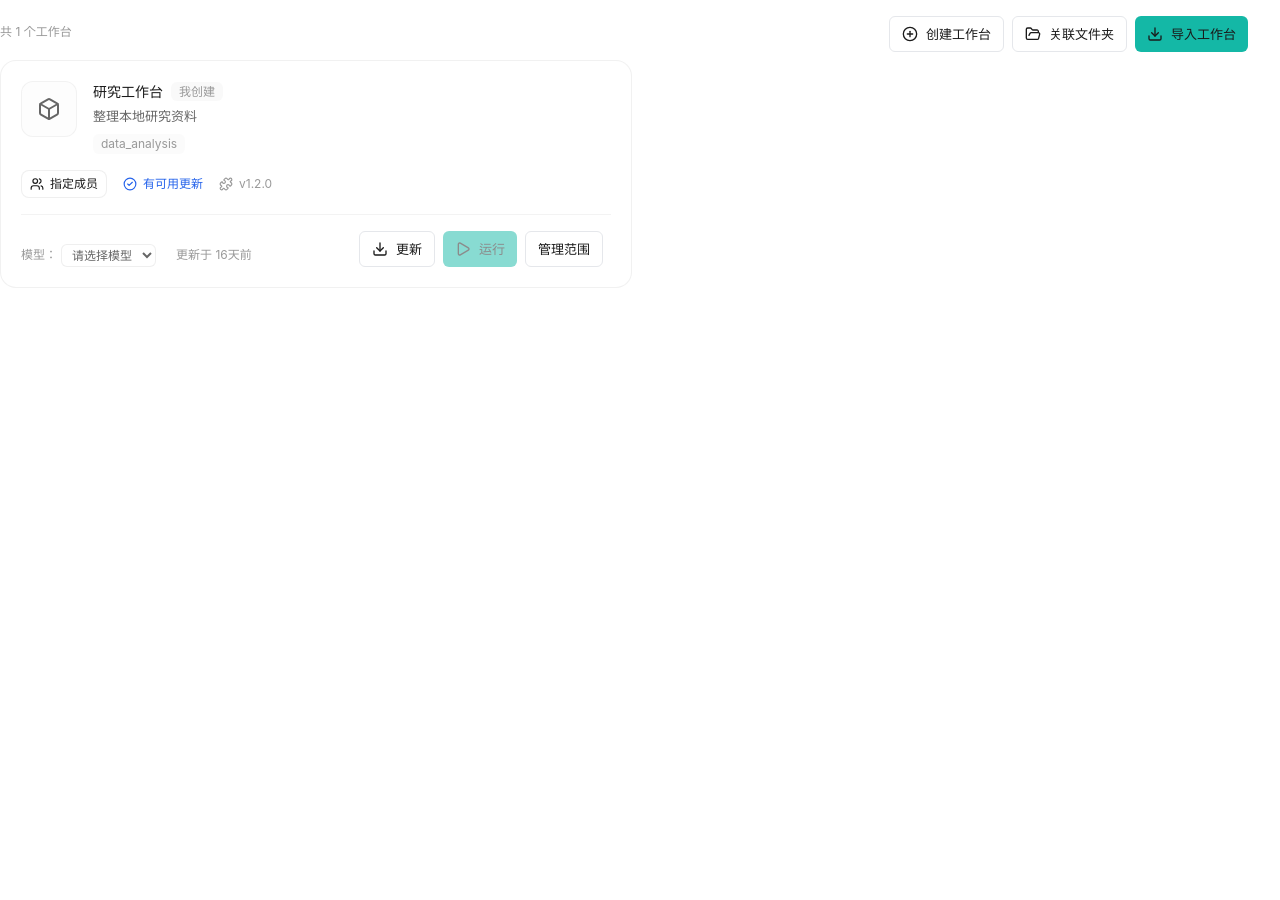
Test: SmartAppsMarketplacePage › switches an owned app to everyone without sharing targets
The width and height of the screenshot is (1280, 900).
Click the button "指定成员" at (64, 184), box [21,170,107,198]
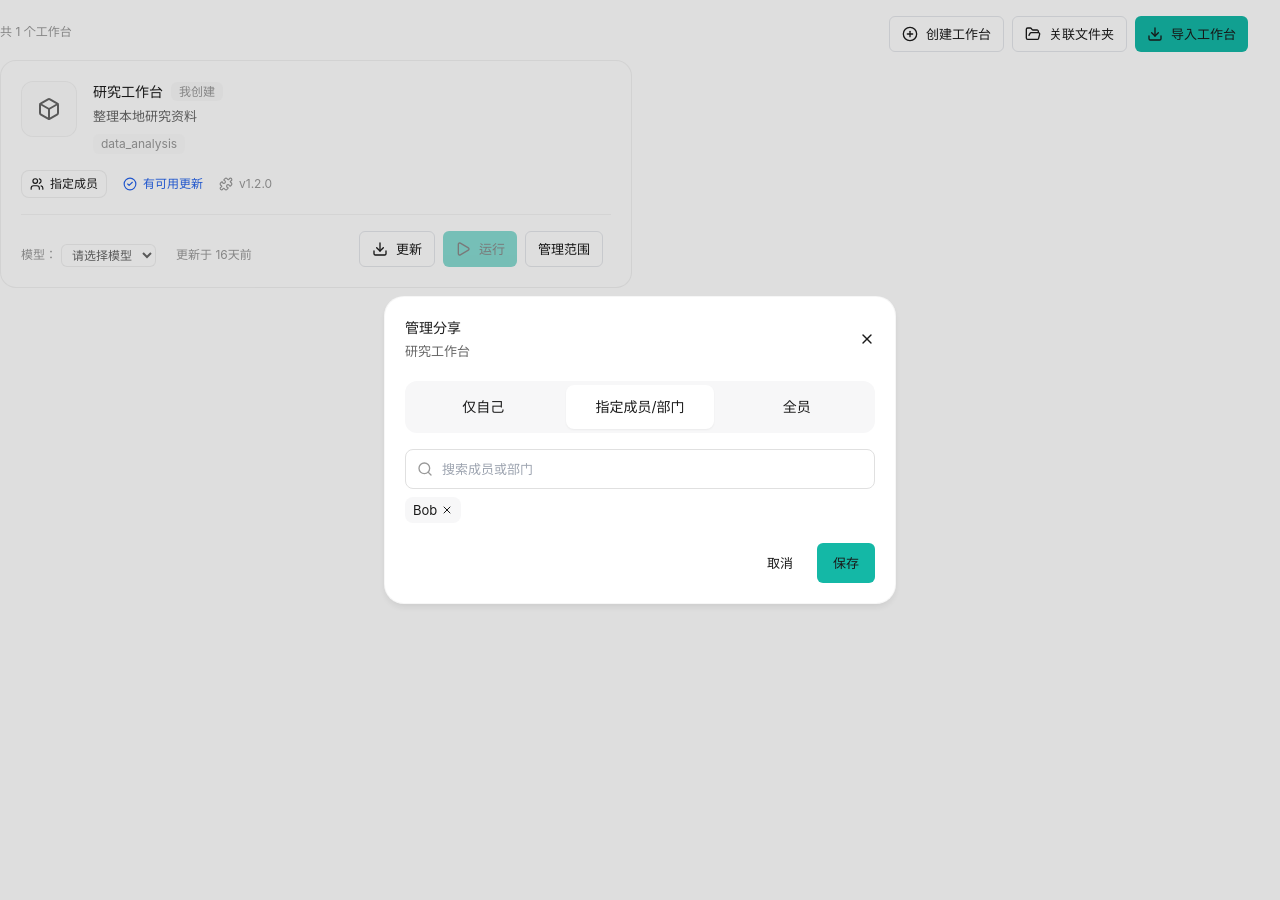
expect the dialog with test id "smart-app-share-dialog" is shown: met, box [384,296,896,604]
Click the button with test id "smart-app-share-scope-public" at (797, 406), box [722,384,871,428]
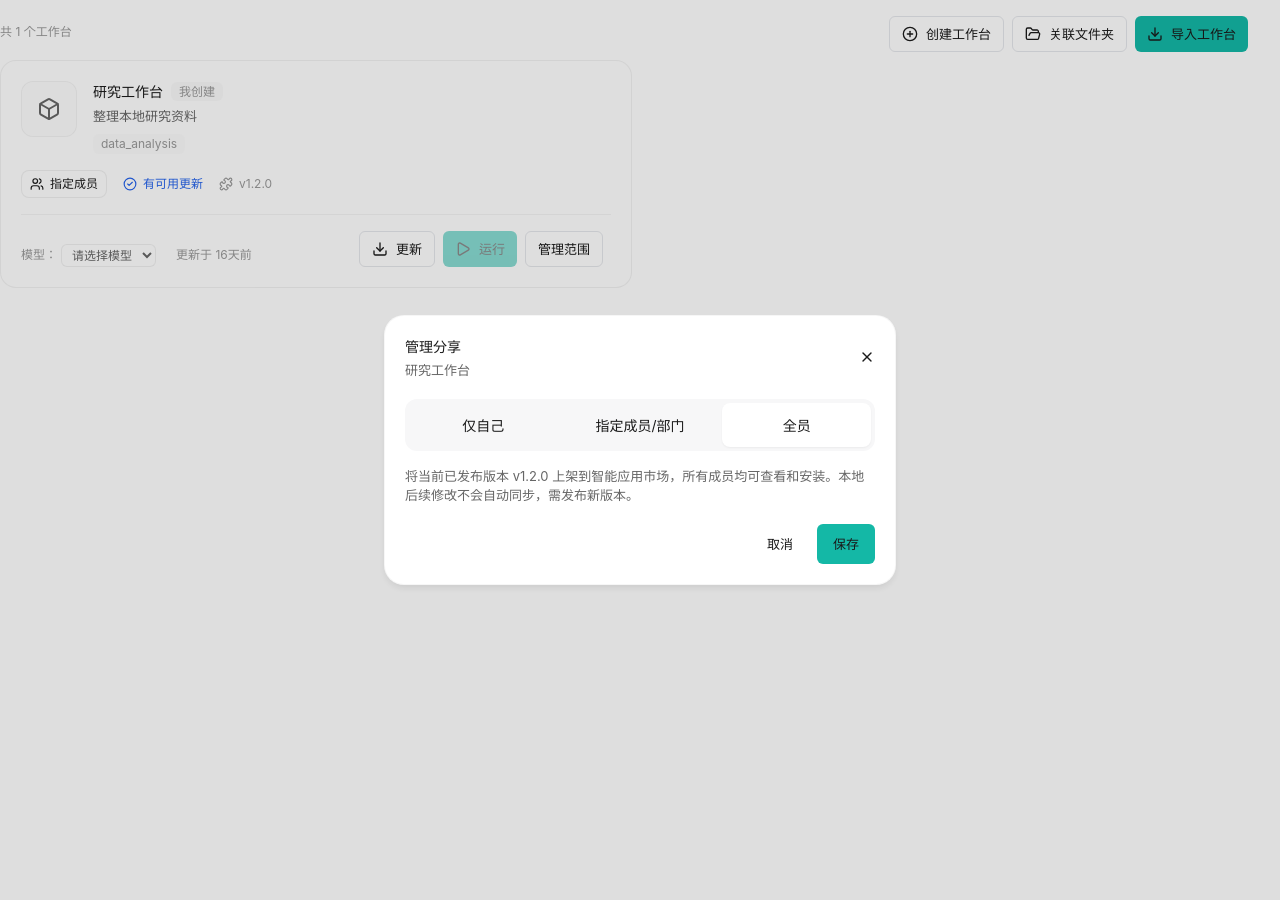
expect the field with test id "smart-app-target-search" is gone: met
expect the text "将当前已发布版本 v1.2.0 上架到智能应用市场，所有成员均可查看和安装。本地后续修改不会自动同步，需发布新版本。" is shown: met, box [405,467,875,504]
Click the button with test id "smart-app-share-save" at (846, 544), box [817,524,875,564]
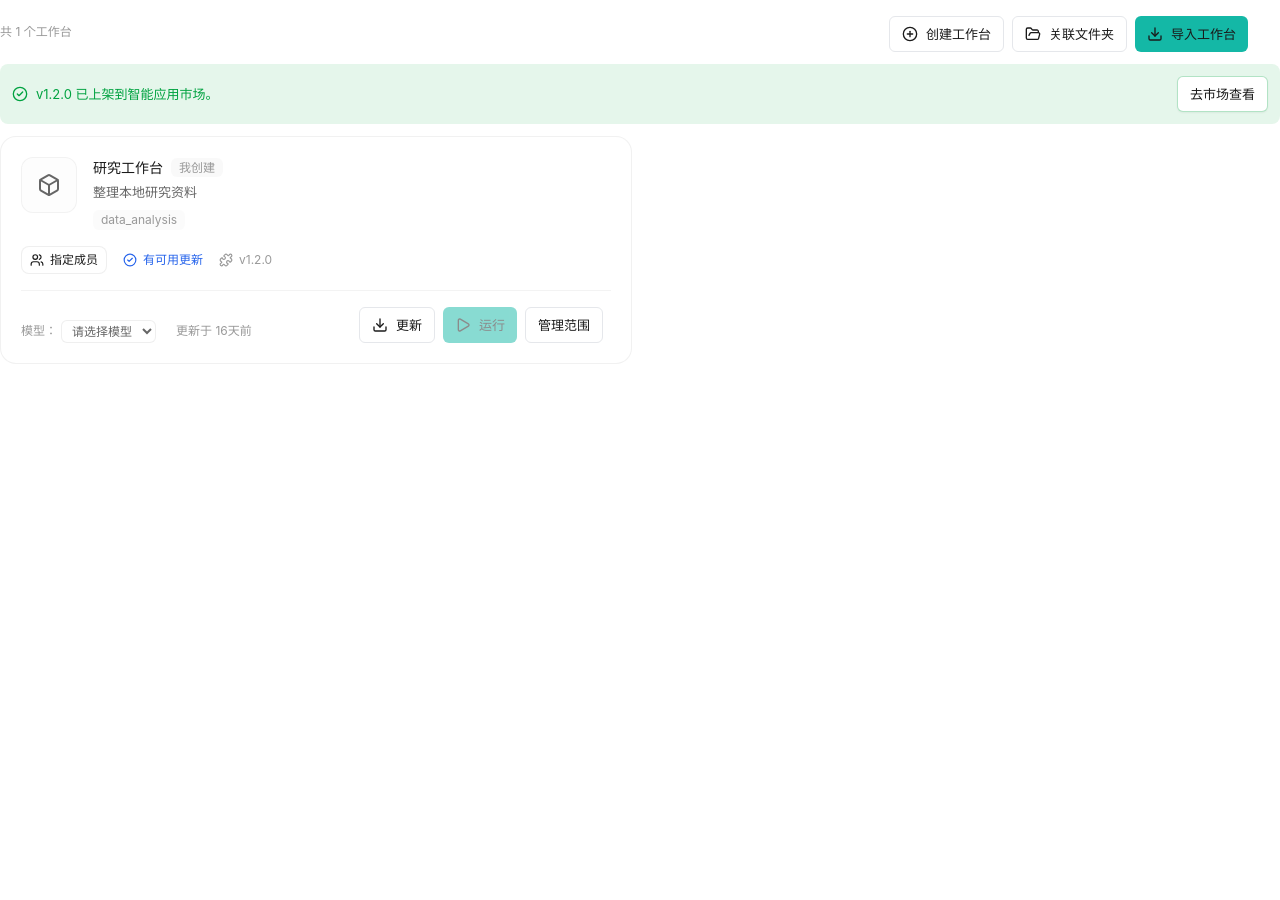
expect the message with test id "smart-app-access-success" shows "v1.2.0 已上架到智能应用市场。": met, box [36,86,218,102]
Click the button with test id "smart-app-access-view-marketplace" at (1222, 94), box [1177,76,1268,112]
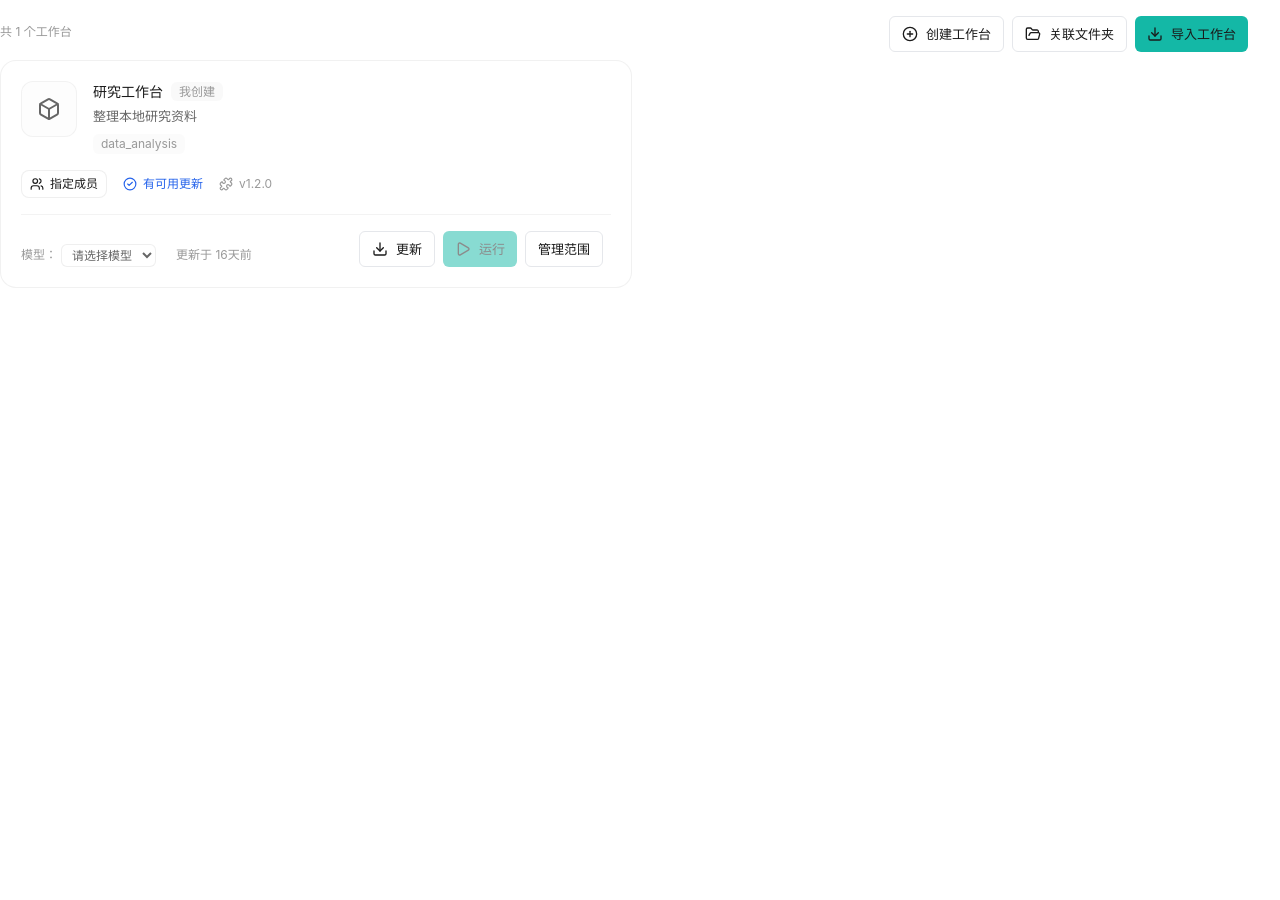
expect the message with test id "smart-app-access-success" is gone: met
